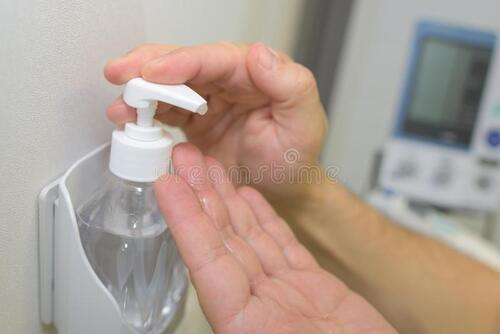sanitizer: (56, 75, 192, 329)
